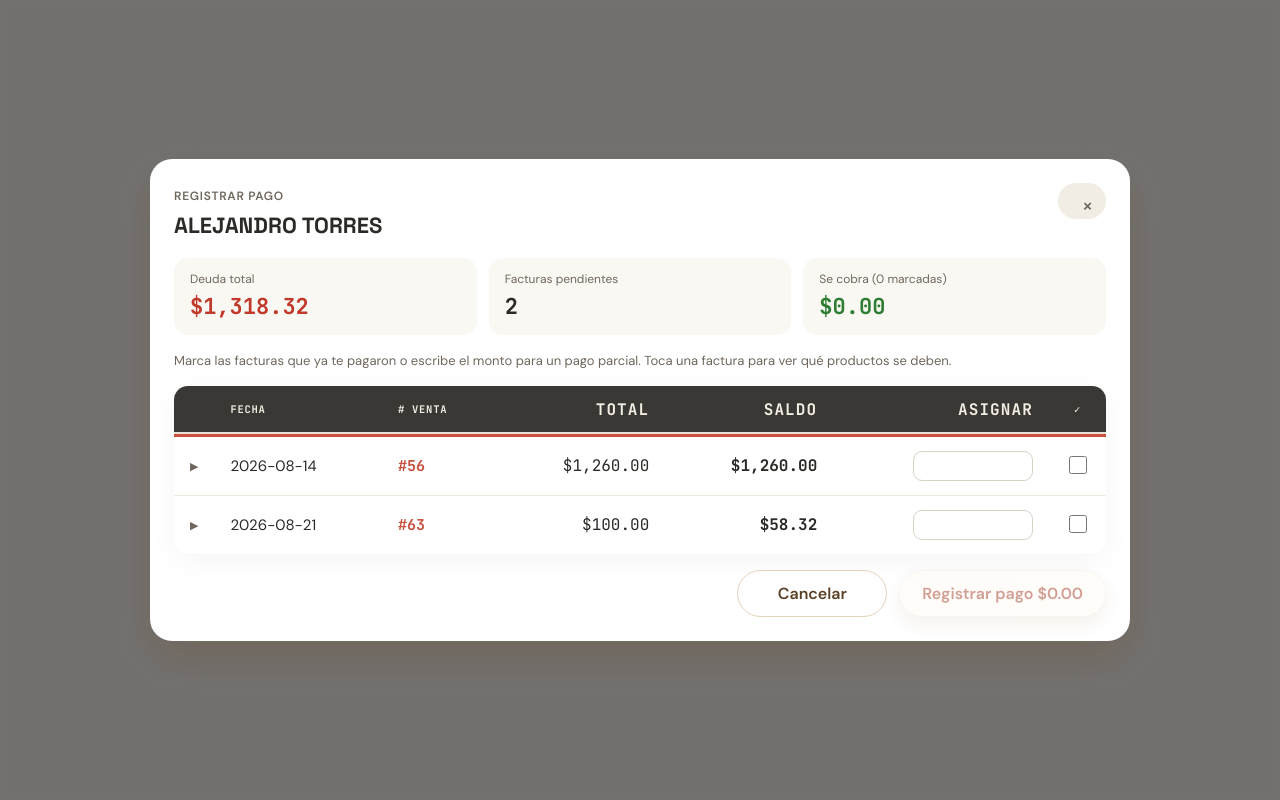
it: ModalRegistrarPago — productos de la deuda › 🔴 abrir la factura pinta sus productos y reabrirla NO vuelve a pedirlos
Click the text "#56" at (640, 466), box [174, 436, 1106, 496]
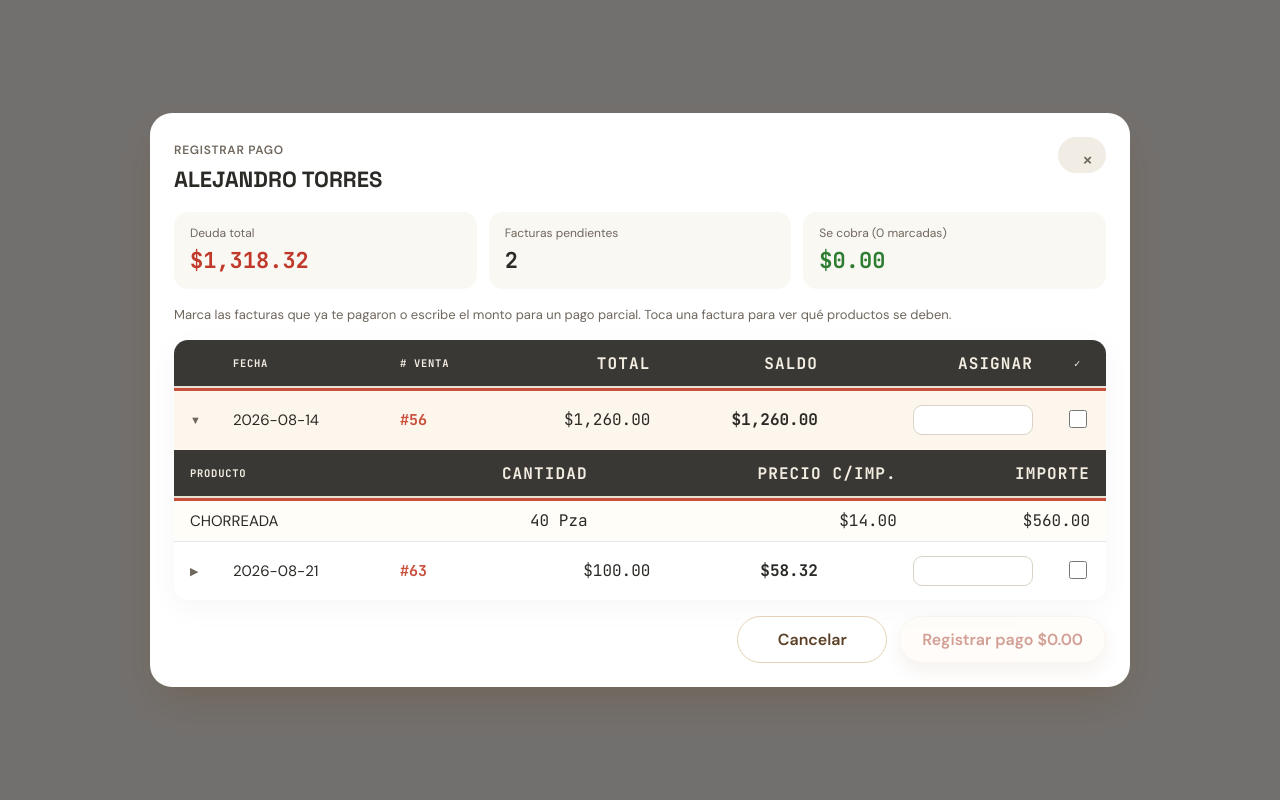
Now the text "CHORREADA" is shown, box [174, 500, 391, 541]
Now the text "$14.00" is shown, box [604, 500, 913, 541]
Now the text "$560.00" is shown, box [913, 500, 1106, 541]
Click the text "#56" at (640, 420), box [174, 390, 1106, 450]
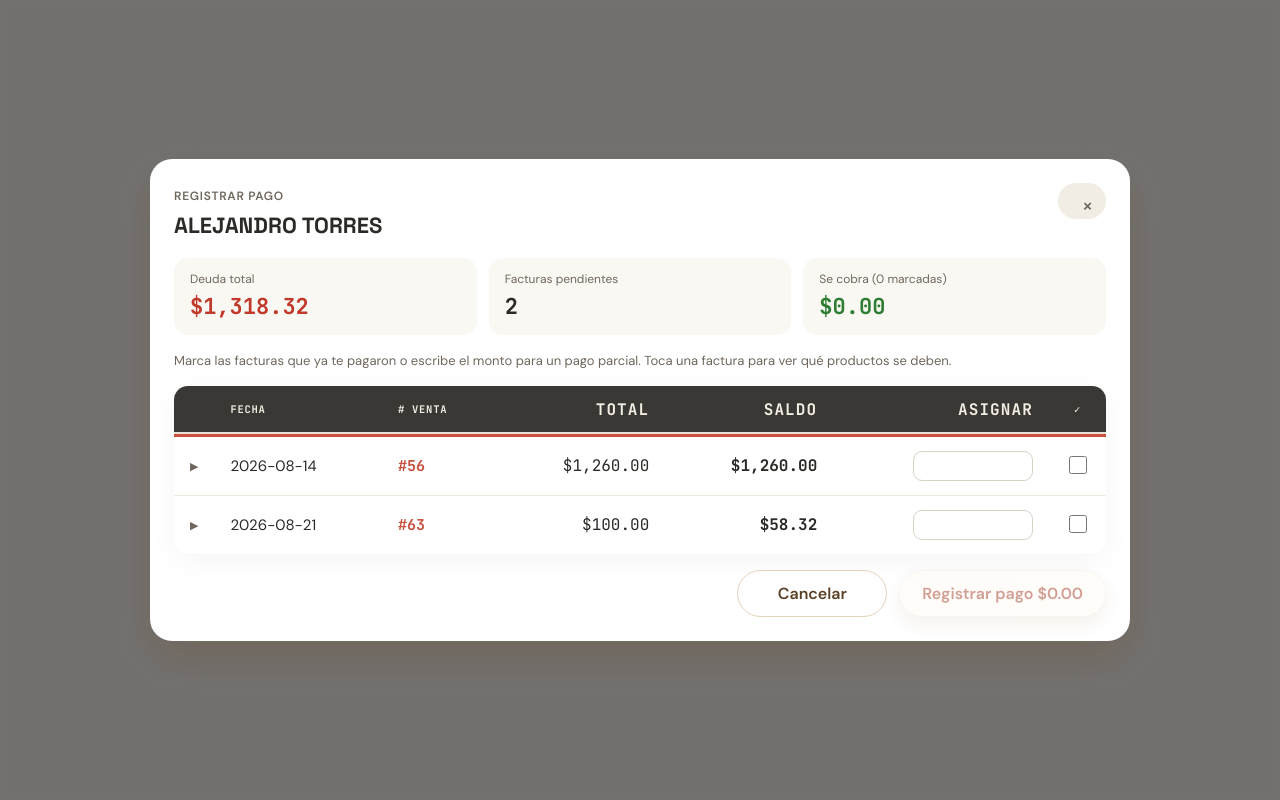
Now the text "CHORREADA" is gone
Click the text "#56" at (640, 466), box [174, 436, 1106, 496]
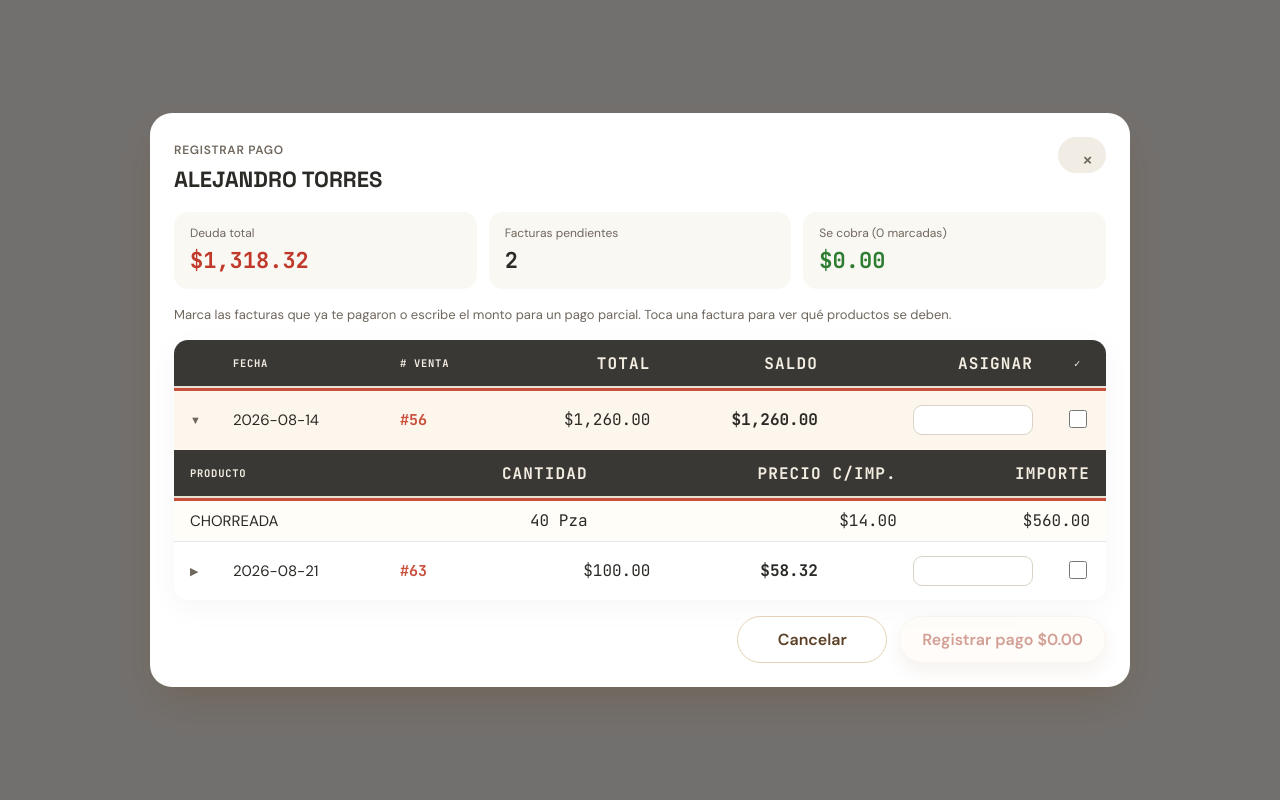
Now the text "CHORREADA" is shown, box [174, 500, 391, 541]
